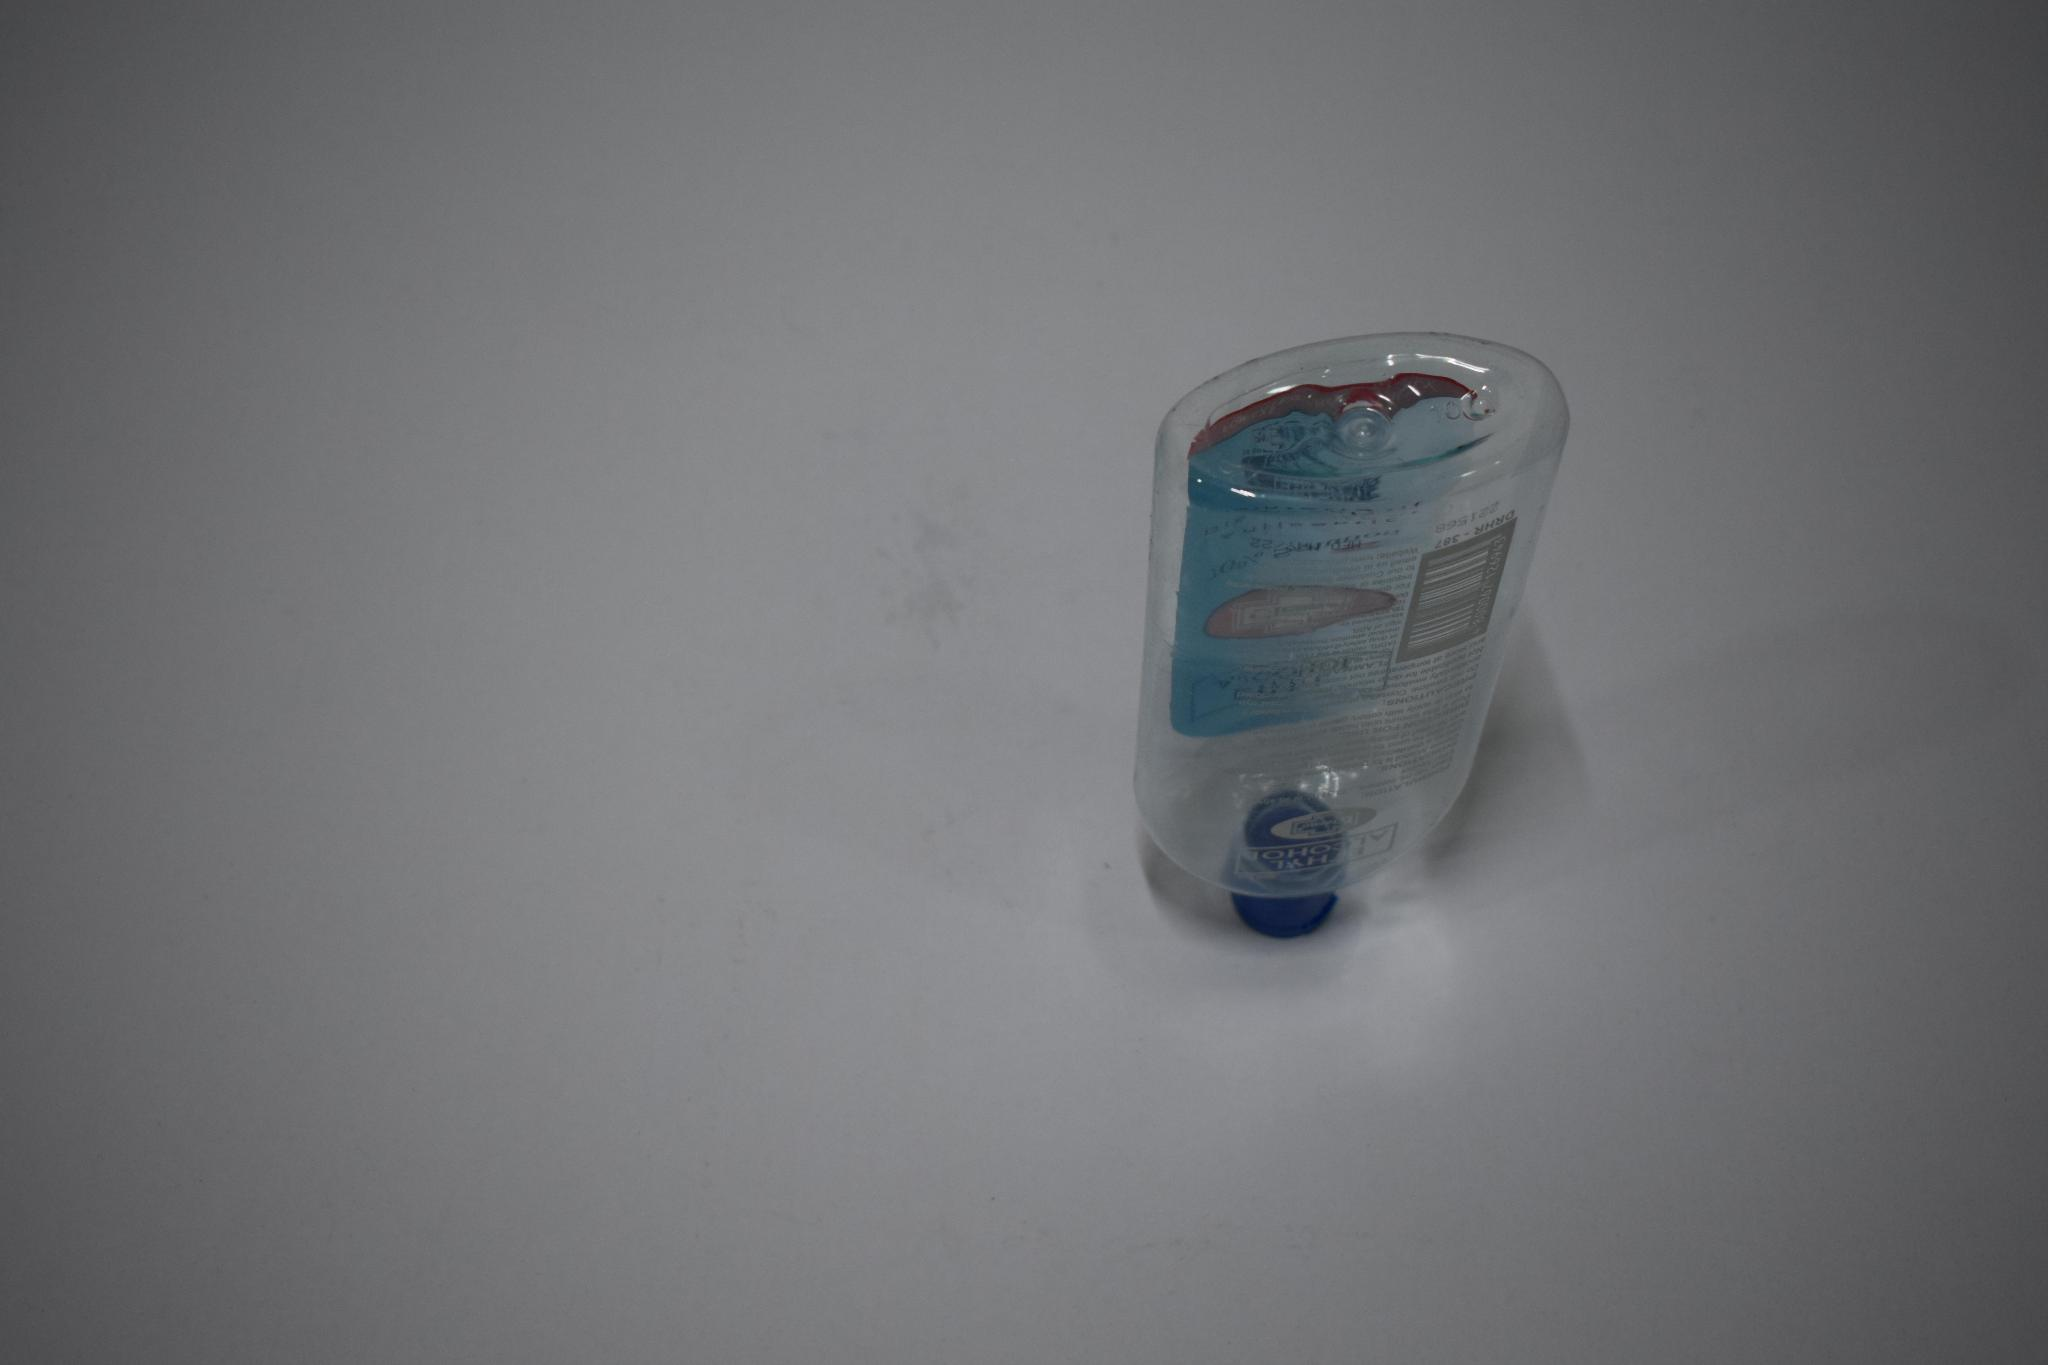bottle: (1125, 331, 1573, 954)
